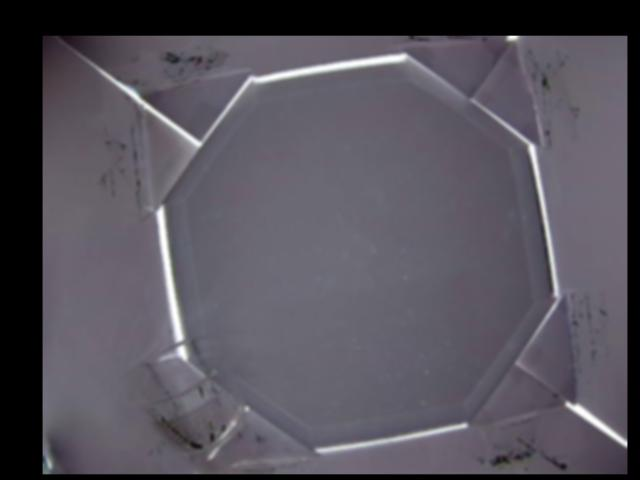Cup: (122, 333, 241, 473)
